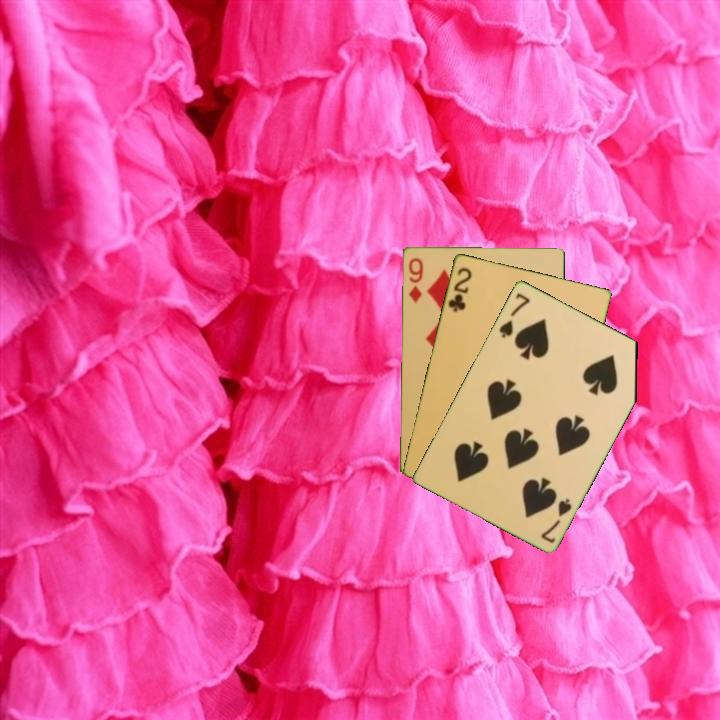2c: (444, 263, 474, 315)
7s: (495, 289, 533, 340), (537, 494, 574, 546)
9d: (405, 254, 425, 305)
